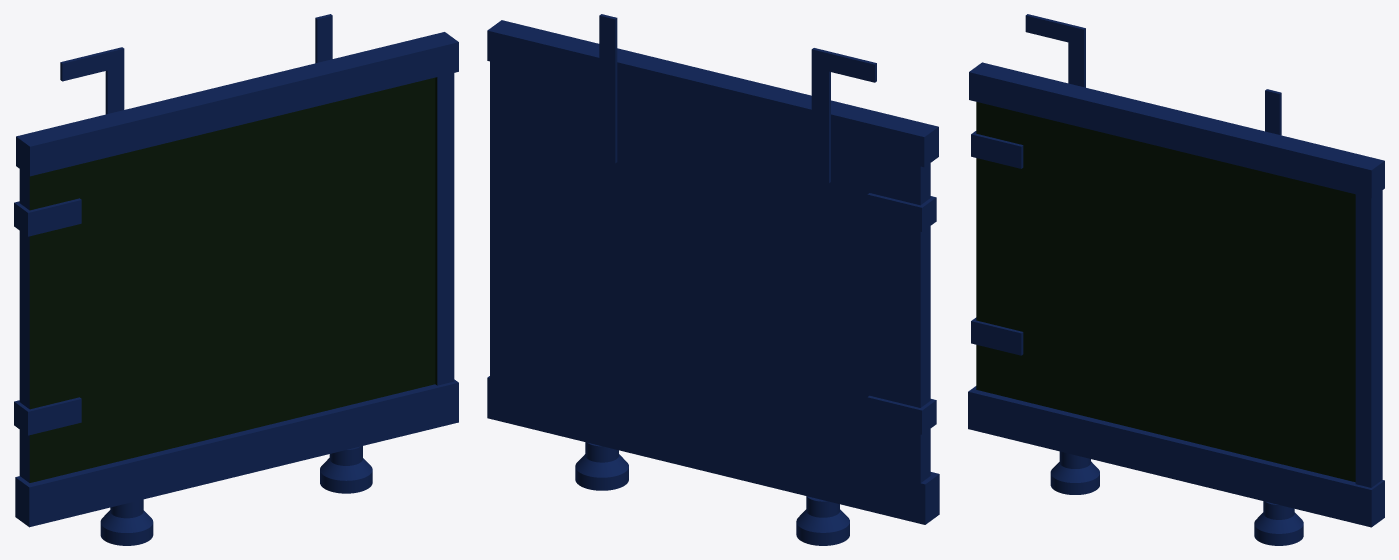
The model's file is Mesh_GreenGym_Base_Defense.FBX.
3 views of the same model, side by side, from view 1: azimuth 30°, elevation 25°; view 2: azimuth 150°, elevation 25°; view 3: azimuth 330°, elevation 25° (orthographic). The views are drawn at different scales.
Visible parts, largest first — view 1: Mesh_GreenGym_Base_Defense; view 2: Mesh_GreenGym_Base_Defense; view 3: Mesh_GreenGym_Base_Defense.
Part boxes in pixels (left/top/right/bottom): Mesh_GreenGym_Base_Defense: left=14, top=14, right=458, bottom=545; Mesh_GreenGym_Base_Defense: left=487, top=14, right=939, bottom=545; Mesh_GreenGym_Base_Defense: left=968, top=14, right=1384, bottom=545.
Size of what is drawn, in the model's own units: 179 by 19.87 by 191.
